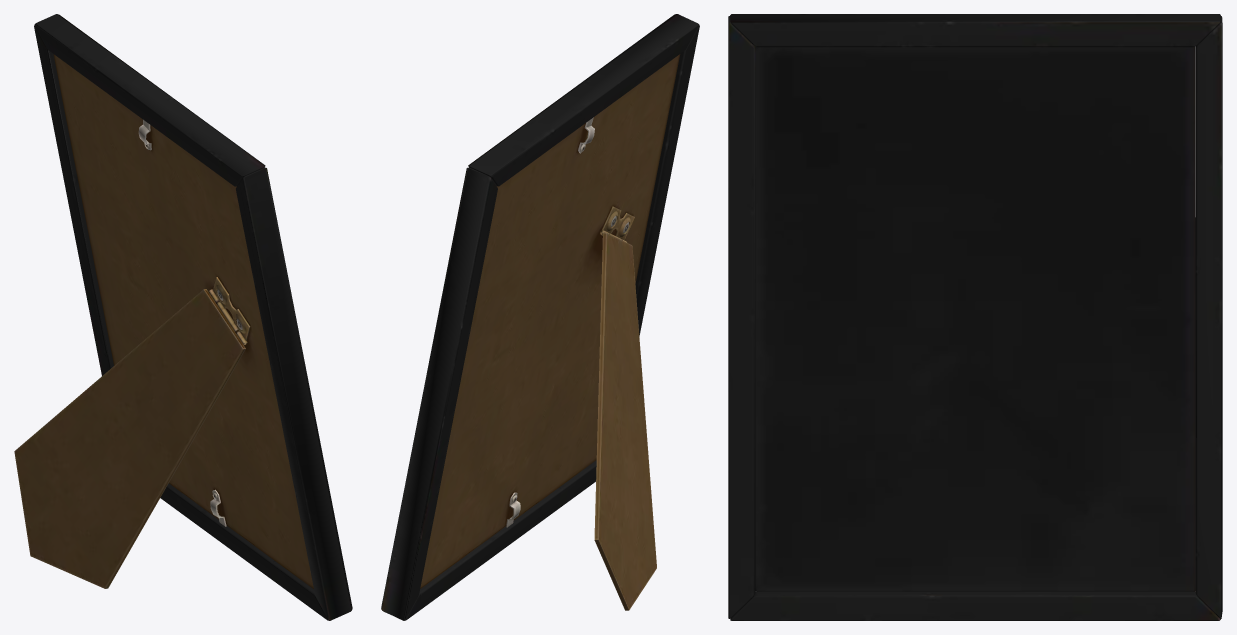
The model's file is standing_picture_frame_01.glb.
3 views of the same model, side by side, from view 1: azimuth 30°, elevation 25°; view 2: azimuth 150°, elevation 25°; view 3: azimuth 270°, elevation 25° (orthographic). The views are drawn at different scales.
Parts seen in each view (by area): view 1: standing_picture_frame_01; view 2: standing_picture_frame_01; view 3: standing_picture_frame_01.
Boxes of the visible parts, x1,y1,x2,y2 form: standing_picture_frame_01: [14, 14, 352, 620]; standing_picture_frame_01: [381, 14, 699, 620]; standing_picture_frame_01: [728, 14, 1222, 620].
Bounding box in the file's own units: 0.1003 × 0.2497 × 0.2008.
Materials: 3 (3 with a texture image).
